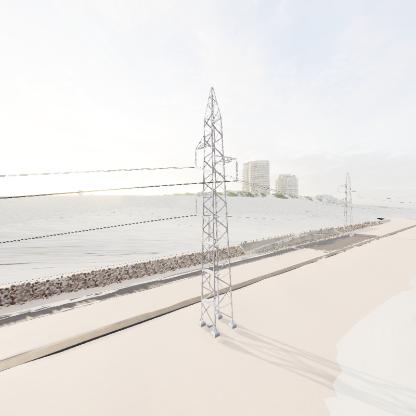tower: (192, 83, 242, 342)
